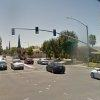Traffic light: (9, 21, 66, 42)
